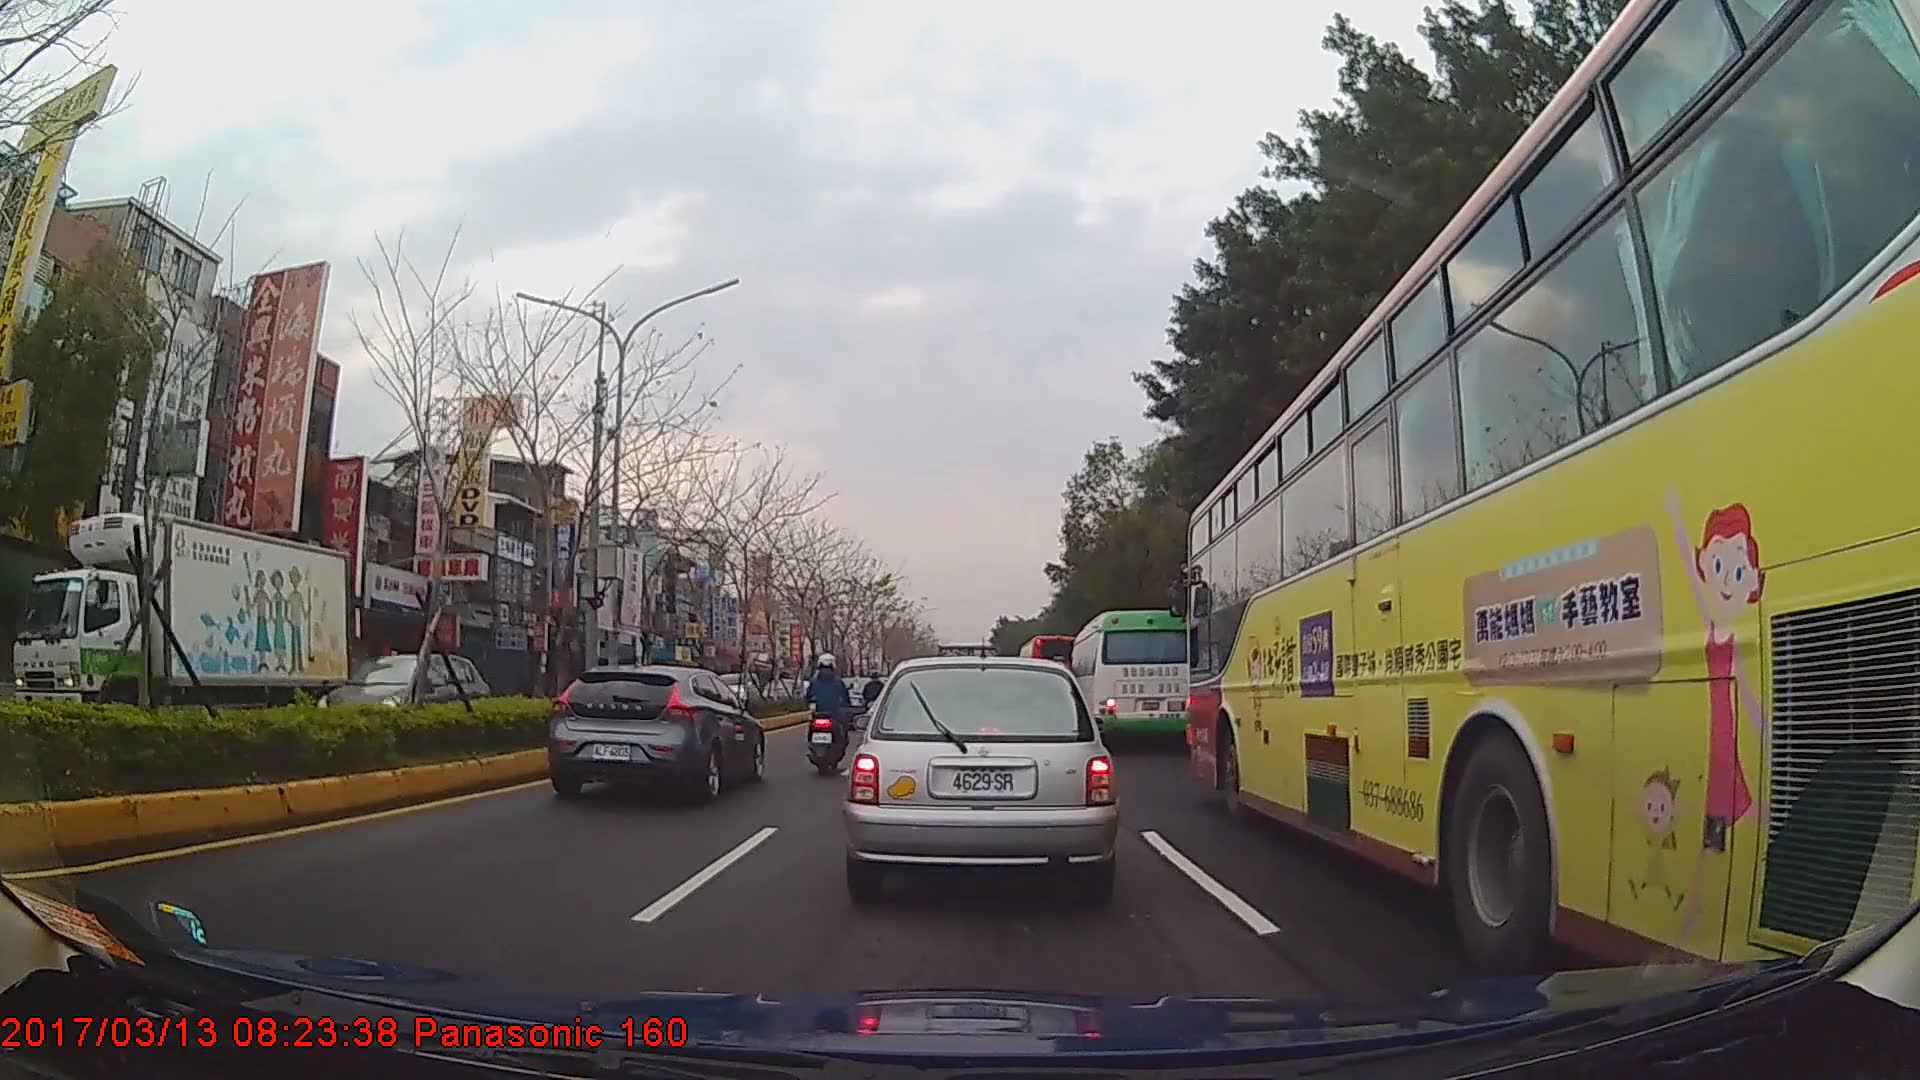rider: (805, 655, 854, 765), (863, 671, 889, 738)
vehicle: (1187, 0, 1920, 1024), (14, 511, 351, 746), (843, 655, 1115, 909), (547, 665, 766, 806), (1069, 611, 1195, 753), (314, 650, 490, 746), (1015, 637, 1083, 711)
